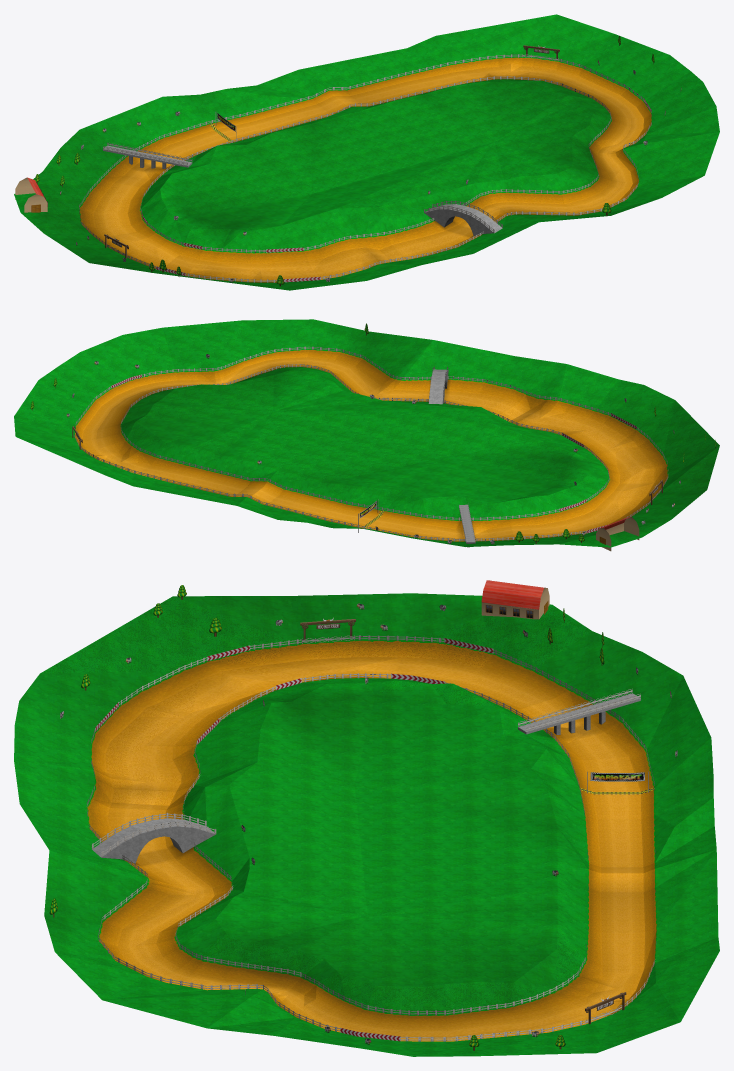
Rendered from old_momo_64D-old_momo_64D.glb.
3 views of the same model, one above another, from view 1: azimuth 30°, elevation 25°; view 2: azimuth 150°, elevation 25°; view 3: azimuth 270°, elevation 25° (orthographic). The views are drawn at different scales.
Parts seen in each view (by area): view 1: old_momo_64D; view 2: old_momo_64D; view 3: old_momo_64D.
Part boxes in pixels (box(x1,y1,x2,y2)): old_momo_64D: box(14, 14, 719, 290); old_momo_64D: box(14, 319, 719, 551); old_momo_64D: box(14, 580, 719, 1056).
Size of the model in its own units: 381 by 23.14 by 241.
Materials: 12 (12 with a texture image).
